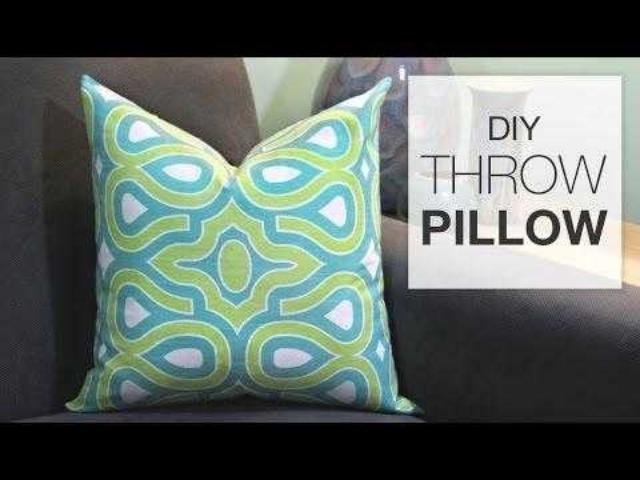pillow: (62, 74, 424, 416)
